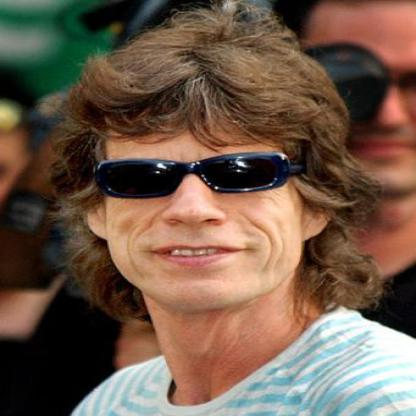face: (92, 46, 311, 314)
